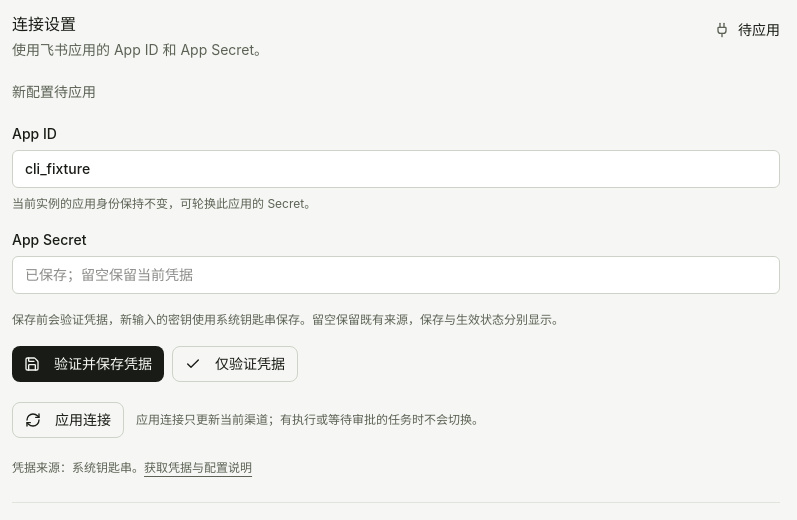
it: applies saved settings separately and explains active-run protection
Click the button "应用连接". click: (68,420)
box: [12,402,124,438]
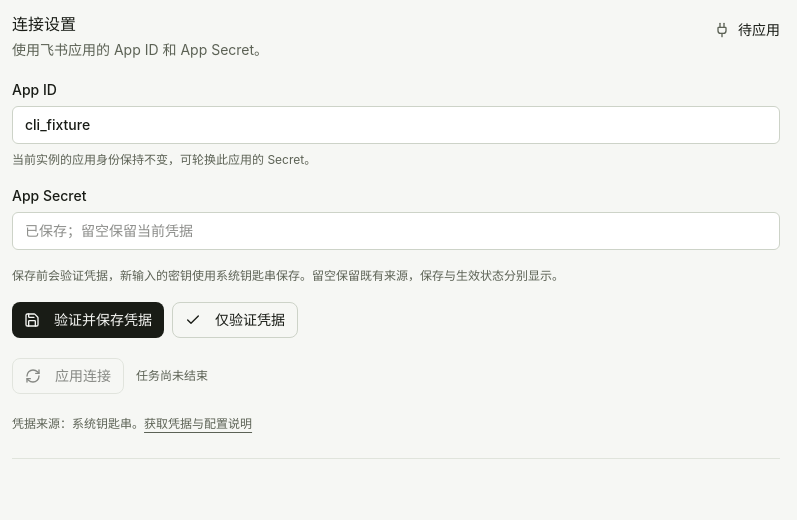
Expected: the button "应用连接" is disabled, [12,358,124,394]
Expected: the text "任务尚未结束" is shown, [136,366,208,386]
